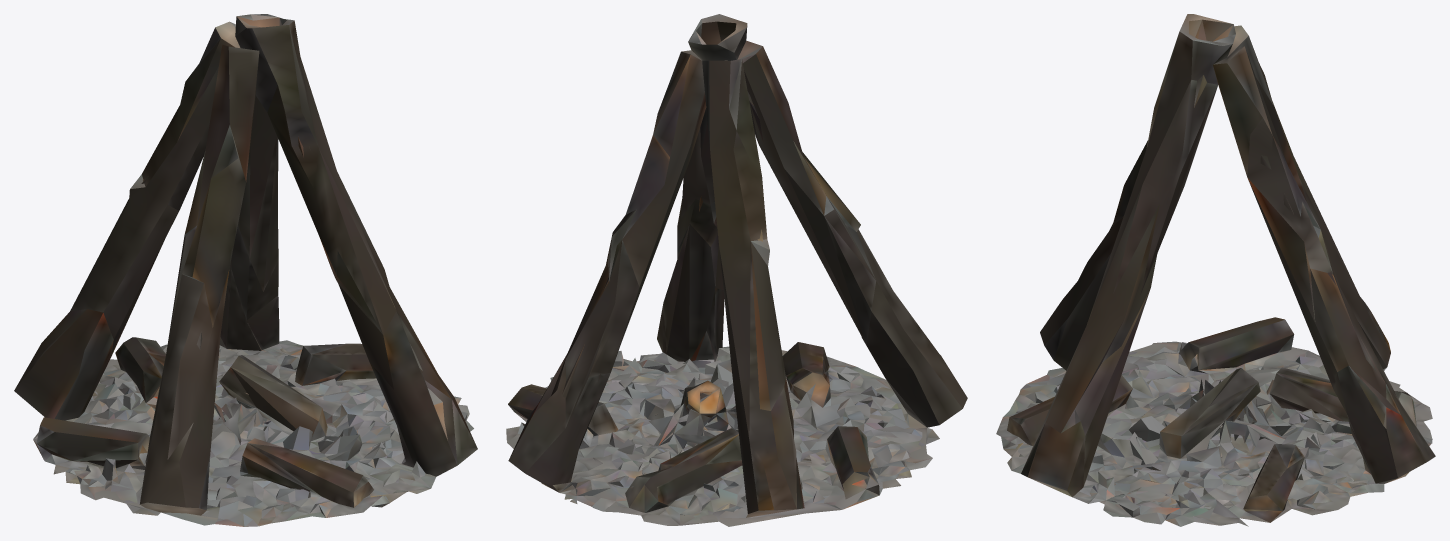
Rendered from campfire-logs.glb.
3 renders of one model, left to right at view 1: azimuth 30°, elevation 25°; view 2: azimuth 150°, elevation 25°; view 3: azimuth 270°, elevation 25°, orthographic. The views are drawn at different scales.
Bounding box in the file's own units: 1.8 × 1.89 × 1.8.
Materials: 1 (1 with a texture image).
